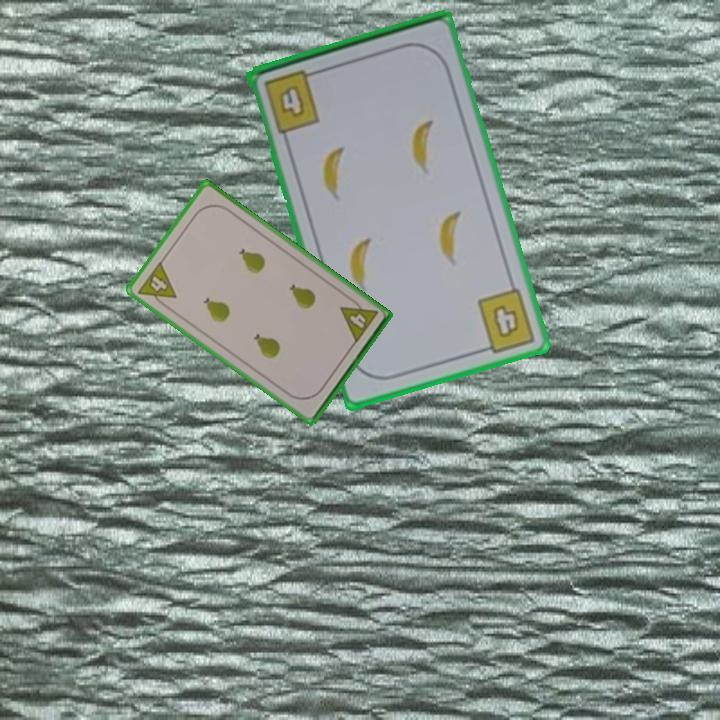4b: (474, 285, 539, 356), (260, 66, 324, 136)
4p: (134, 258, 179, 312), (336, 293, 381, 346)
